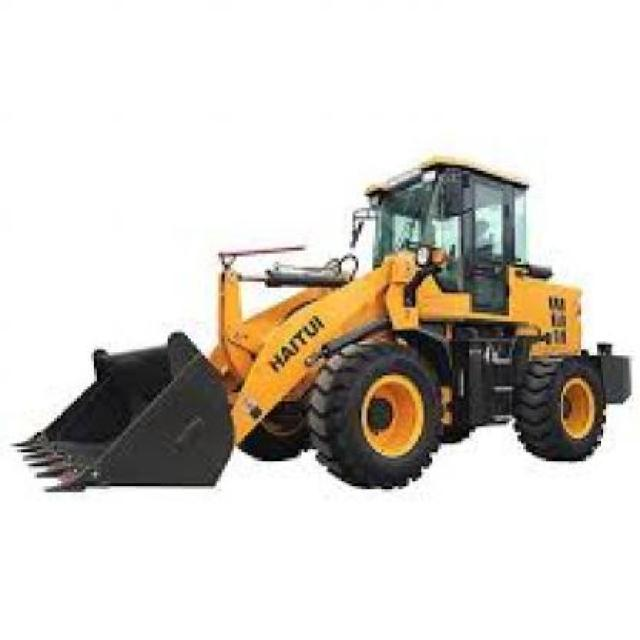buldozerpayloadergrader: (10, 159, 628, 513)
